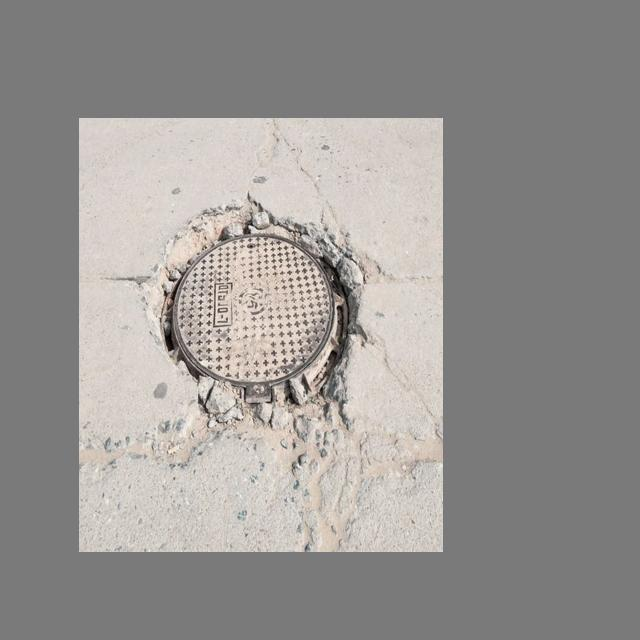circle: (132, 195, 380, 436)
